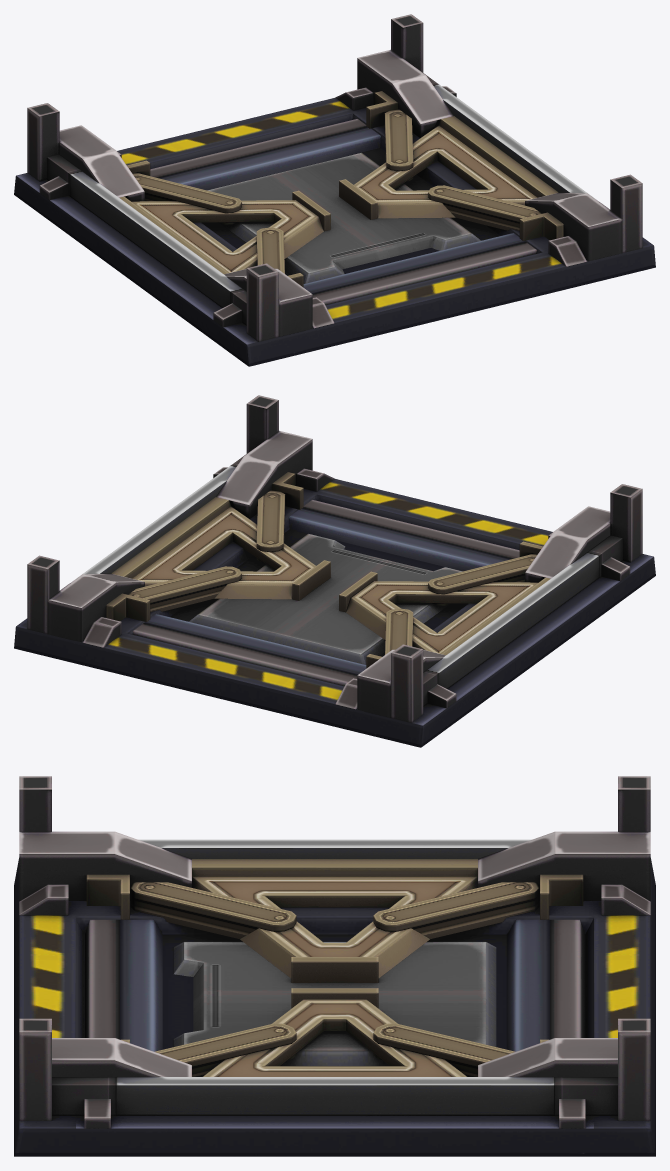
File: trap_151_muruinw.fbx
3 views of the same model, one above another, from view 1: azimuth 30°, elevation 25°; view 2: azimuth 150°, elevation 25°; view 3: azimuth 270°, elevation 25° (orthographic). The views are drawn at different scales.
Visible parts, largest first — view 1: trap_151_muruinw; view 2: trap_151_muruinw; view 3: trap_151_muruinw.
Part boxes in pixels (x1=…): trap_151_muruinw: x1=14, y1=14, x2=655, y2=366; trap_151_muruinw: x1=14, y1=395, x2=655, y2=747; trap_151_muruinw: x1=14, y1=776, x2=655, y2=1156.
Size of the model in its own units: 1 by 0.2009 by 1.
Materials: 1 (1 with a texture image).
